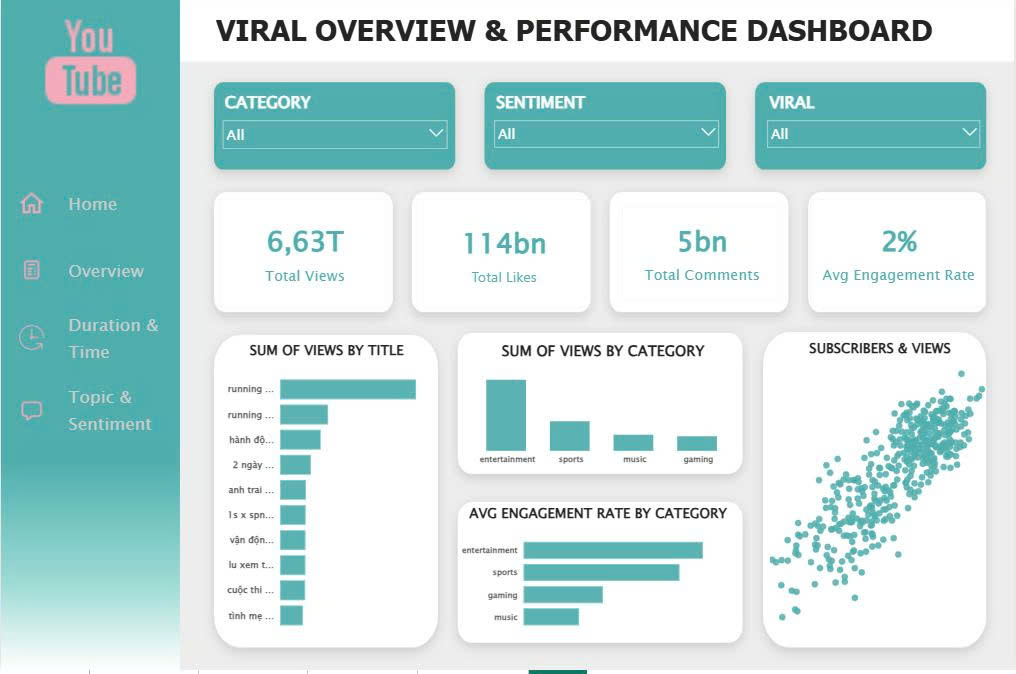

The dashboard page shown, as its layout file describes it:
{"tool":"powerbi","page":{"name":"Dash1","canvas":[1500,1000],"ordinal":1},"visuals":[{"type":"image","box":[0,22.5,265,160],"z":0,"group":"g3"},{"type":"slicer","fields":{"Values":["YOUTUBE_VIZ.category"]},"box":[312.5,132.5,362.5,132.5],"z":0},{"type":"barChart","title":"SUM OF VIEWS BY TITLE","fields":{"Category":["YOUTUBE_VIZ.title"],"Y":["Sum(YOUTUBE_VIZ.views)"]},"box":[312.5,500,332.5,452.5],"z":0,"group":"g1"},{"type":"slicer","fields":{"Values":["YOUTUBE_VIZ.sentiment"]},"box":[715,132.5,362.5,132.5],"z":1000},{"type":"clusteredColumnChart","title":"SUM OF VIEWS BY CATEGORY","fields":{"Y":["Sum(YOUTUBE_VIZ.views)"],"Category":["YOUTUBE_VIZ.category"]},"box":[669.7,500,436,207],"z":1000,"group":"g1"},{"type":"textbox","box":[312.5,22.5,1082.5,77.5],"z":2000,"group":"g3"},{"type":"slicer","fields":{"Values":["YOUTUBE_VIZ.is_viral_label"]},"box":[1117.5,132.5,345,132.5],"z":2000},{"type":"barChart","title":"AVG ENGAGEMENT RATE BY CATEGORY","fields":{"Category":["YOUTUBE_VIZ.category"],"Y":["Sum(YOUTUBE_VIZ.engagement_rate)"]},"box":[669.7,743.1,421.2,209.4],"z":2000,"group":"g1"},{"type":"scatterChart","title":"SUBSCRIBERS & VIEWS","fields":{"X":["Sum(YOUTUBE_VIZ.subscribers)"],"Y":["Sum(YOUTUBE_VIZ.views)"],"Category":["YOUTUBE_VIZ.title"]},"box":[1136.3,498.4,332.5,465],"z":3000,"group":"g1"},{"type":"actionButton","title":"Button 3","box":[0,567.5,265,97.5],"z":3000,"group":"g2"},{"type":"actionButton","title":"Button 2","box":[0,460.8,265,97.5],"z":3125,"group":"g2"},{"type":"actionButton","title":"Button 1","box":[0,364.2,265,87.5],"z":3250,"group":"g2"},{"type":"actionButton","title":"Button Home","box":[0,265,265,90],"z":3500,"group":"g2"},{"type":"group","id":"g1","title":"Chart","box":[312.5,498.4,1156.2,465],"z":9000},{"type":"cardVisual","title":"CARD Avg Engagement Rate","fields":{"Data":["YOUTUBE_VIZ.Avg Engagement Rate","select"]},"box":[1187.5,292.5,275,177.5],"z":9125},{"type":"cardVisual","title":"CARD Total Comments","fields":{"Data":["YOUTUBE_VIZ.Total Comments"]},"box":[897.5,292.5,275,177.5],"z":9140},{"type":"cardVisual","title":"CARD Total Likes","fields":{"Data":["YOUTUBE_VIZ.Total Likes"]},"box":[602.5,292.5,275,177.5],"z":9156},{"type":"cardVisual","title":"CARD Total Views","fields":{"Data":["YOUTUBE_VIZ.Total Views"]},"box":[312.5,292.5,267.5,177.5],"z":9187},{"type":"group","id":"g2","title":"Navigation","box":[0,265,265,400],"z":9250},{"type":"group","id":"g3","title":"Header","box":[0,22.5,1395,160],"z":9500}]}

Visuals, with their boxes in screenshot pixels (x1, y1, x2, y2), scaled from the page's 1500x1000 canvas onto the 1016x674 screenshot:
image: box=[0, 15, 179, 123]
slicer - YOUTUBE_VIZ.category: box=[212, 89, 457, 179]
"SUM OF VIEWS BY TITLE" barChart: box=[212, 337, 437, 642]
slicer - YOUTUBE_VIZ.sentiment: box=[484, 89, 730, 179]
"SUM OF VIEWS BY CATEGORY" clusteredColumnChart: box=[454, 337, 749, 477]
textbox: box=[212, 15, 945, 67]
slicer - YOUTUBE_VIZ.is_viral_label: box=[757, 89, 991, 179]
"AVG ENGAGEMENT RATE BY CATEGORY" barChart: box=[454, 501, 739, 642]
"SUBSCRIBERS & VIEWS" scatterChart: box=[770, 336, 995, 649]
"Button 3" actionButton: box=[0, 382, 179, 448]
"Button 2" actionButton: box=[0, 311, 179, 376]
"Button 1" actionButton: box=[0, 245, 179, 304]
"Button Home" actionButton: box=[0, 179, 179, 239]
"Chart" group: box=[212, 336, 995, 649]
"CARD Avg Engagement Rate" cardVisual: box=[804, 197, 991, 317]
"CARD Total Comments" cardVisual: box=[608, 197, 794, 317]
"CARD Total Likes" cardVisual: box=[408, 197, 594, 317]
"CARD Total Views" cardVisual: box=[212, 197, 393, 317]
"Navigation" group: box=[0, 179, 179, 448]
"Header" group: box=[0, 15, 945, 123]
